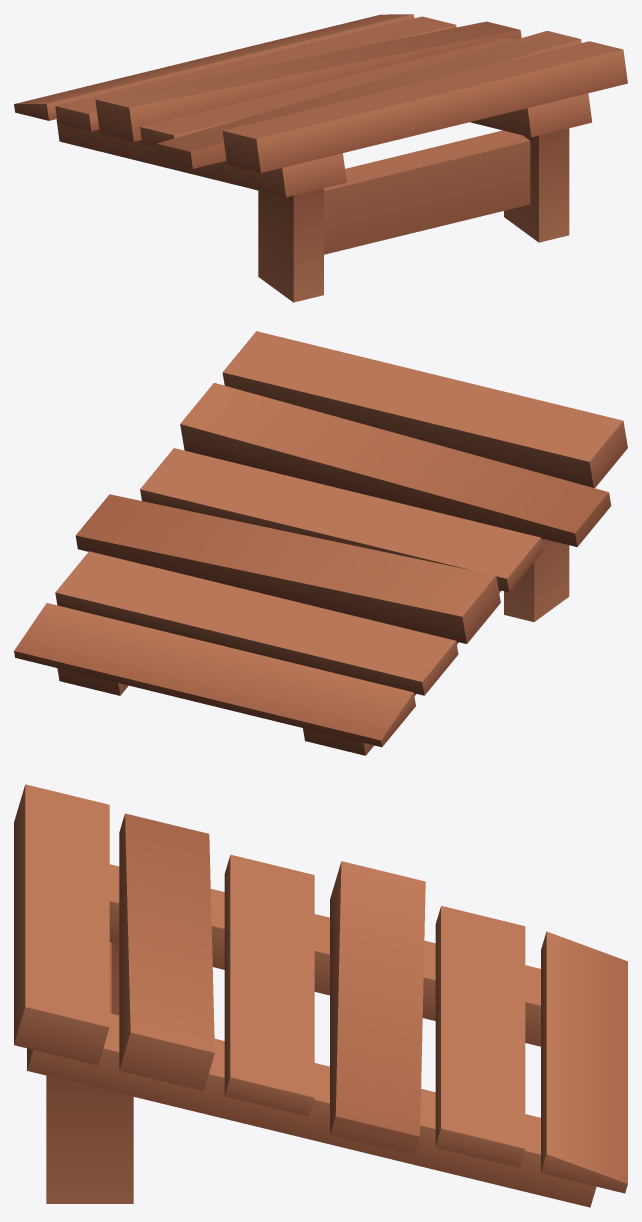
File: ramp.glb
3 views of the same model, one above another, from view 1: azimuth 30°, elevation 25°; view 2: azimuth 150°, elevation 25°; view 3: azimuth 270°, elevation 25° (orthographic). The views are drawn at different scales.
Parts seen in each view (by area): view 1: ramp; view 2: ramp; view 3: ramp.
Part boxes in pixels (x1,y1,x2,y2): ramp: (14, 14, 627, 302); ramp: (14, 331, 627, 755); ramp: (14, 784, 627, 1207).
Bounding box in the file's own units: 2.73 × 1.14 × 2.81.
